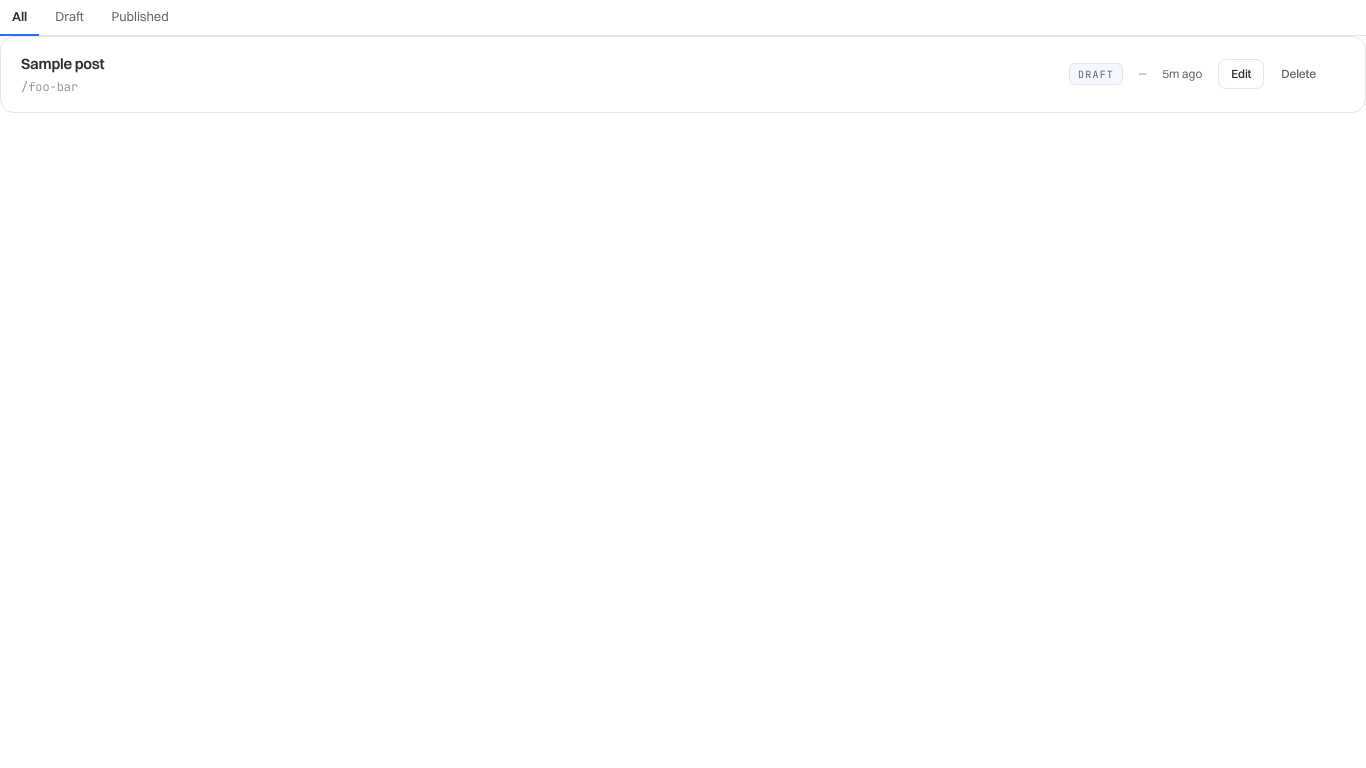
it: <AdminPostsList /> › Delete button opens the confirmation modal; the confirm button stays disabled until the slug is typed
Step 1. Click the button with aria-label "delete sample post" → (1299, 74), box [1268,59,1329,89]
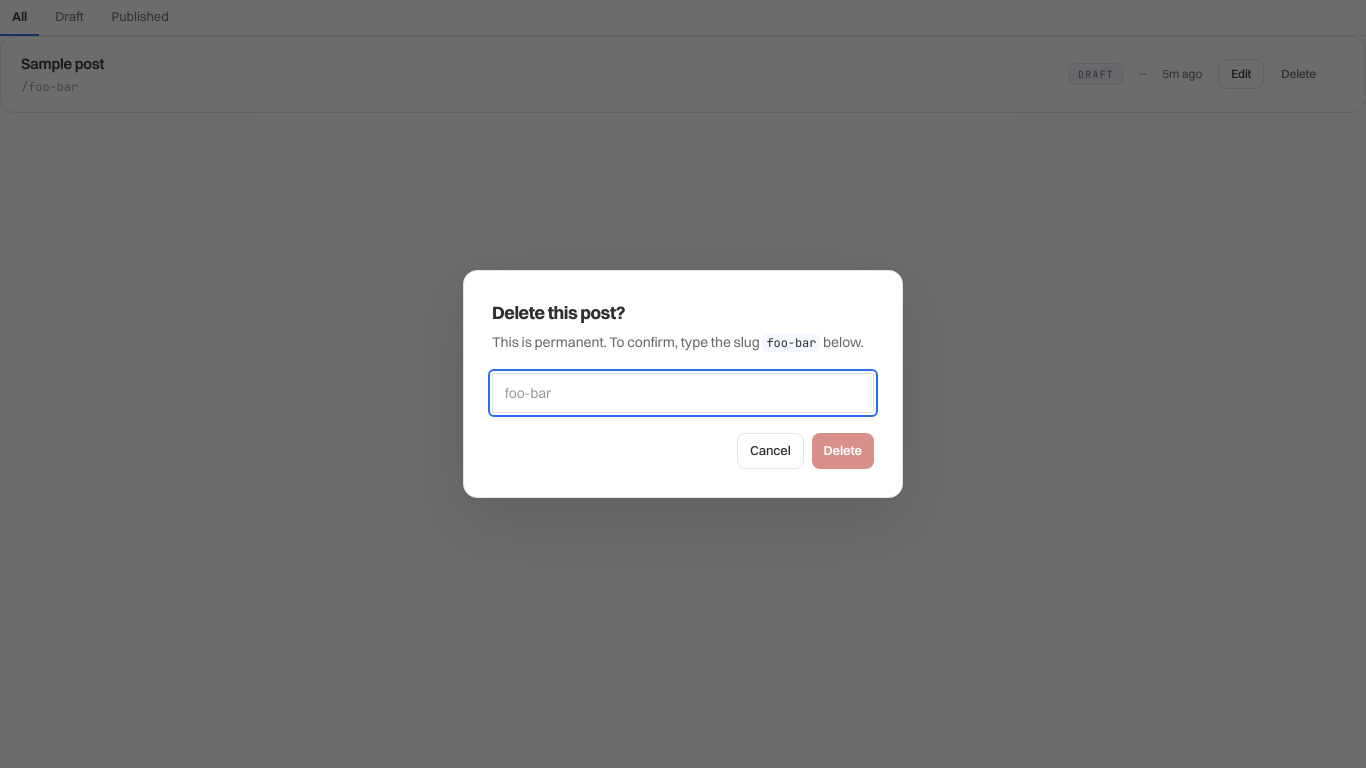
Expected: the button "Delete" is disabled, [812,433,874,469]
Step 2. Type "wrong" into the field named "type the slug" → (683, 393), box [492,373,874,413]
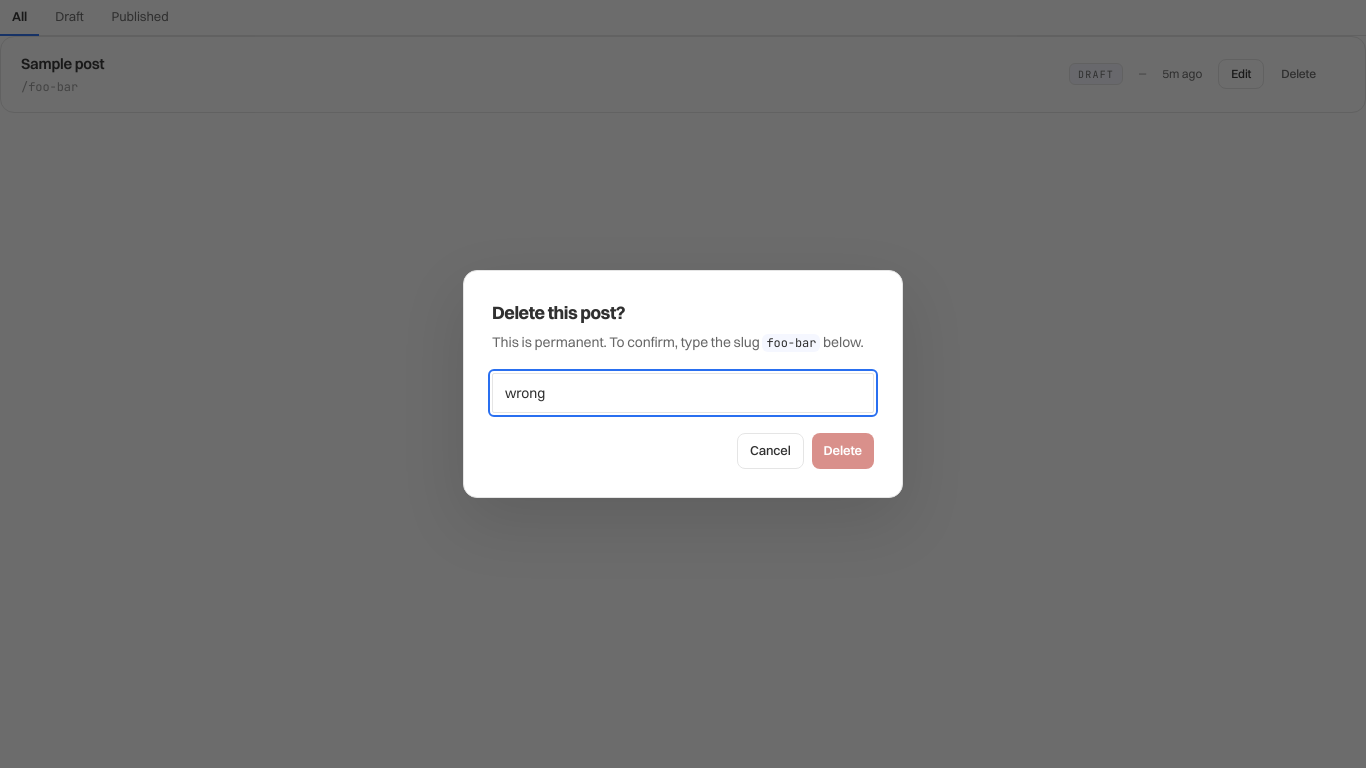
Expected: the button "Delete" is disabled, [812,433,874,469]
Step 3. Replace the text in the field named "type the slug" with "foo-bar" → (683, 393), box [492,373,874,413]
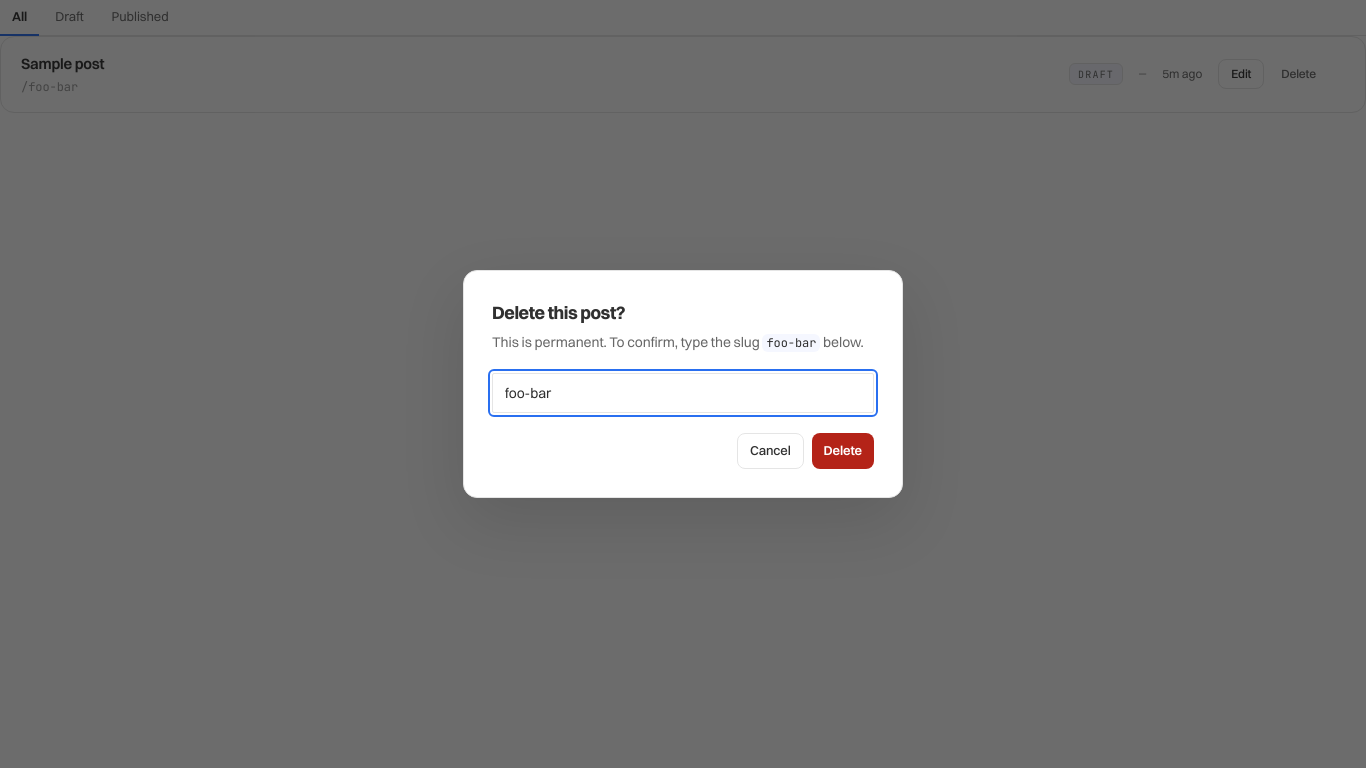
Expected: the button "Delete" is enabled, [812,433,874,469]
